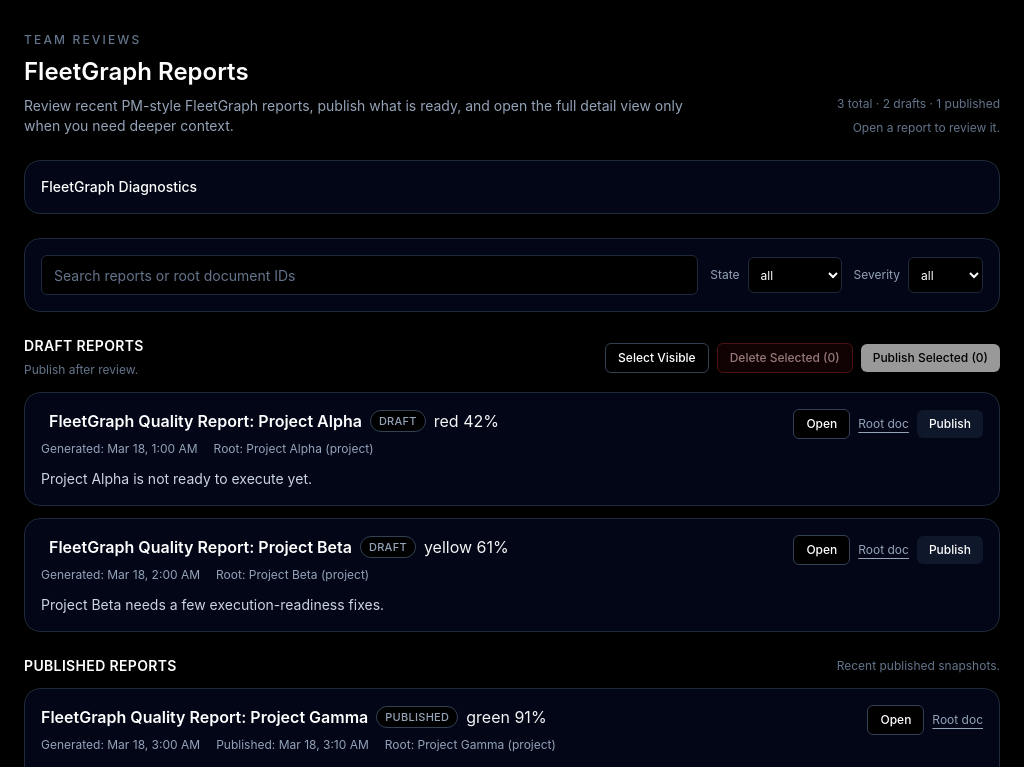
Test: FleetGraphReportsPage › filters the queue by severity and search text
This screenshot has width=1024, height=767.
Select "red" in the dropdown labelled "Severity" at [946, 275], box [908,257,983,293]
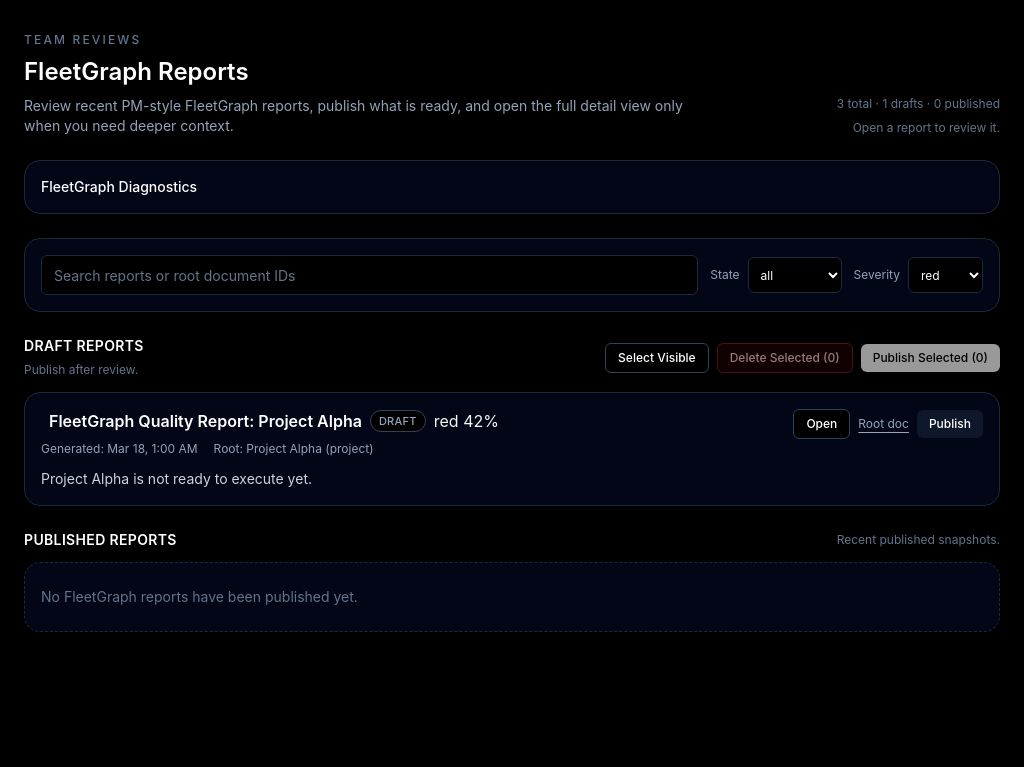
Expected: the heading "FleetGraph Quality Report: Project Alpha" is shown, [49,409,362,433]
Now the heading "FleetGraph Quality Report: Project Beta" is gone
Type "gamma" into the field with placeholder "Search reports or root document IDs".
click(370, 275); type("gamma")  # box [41,255,698,295]
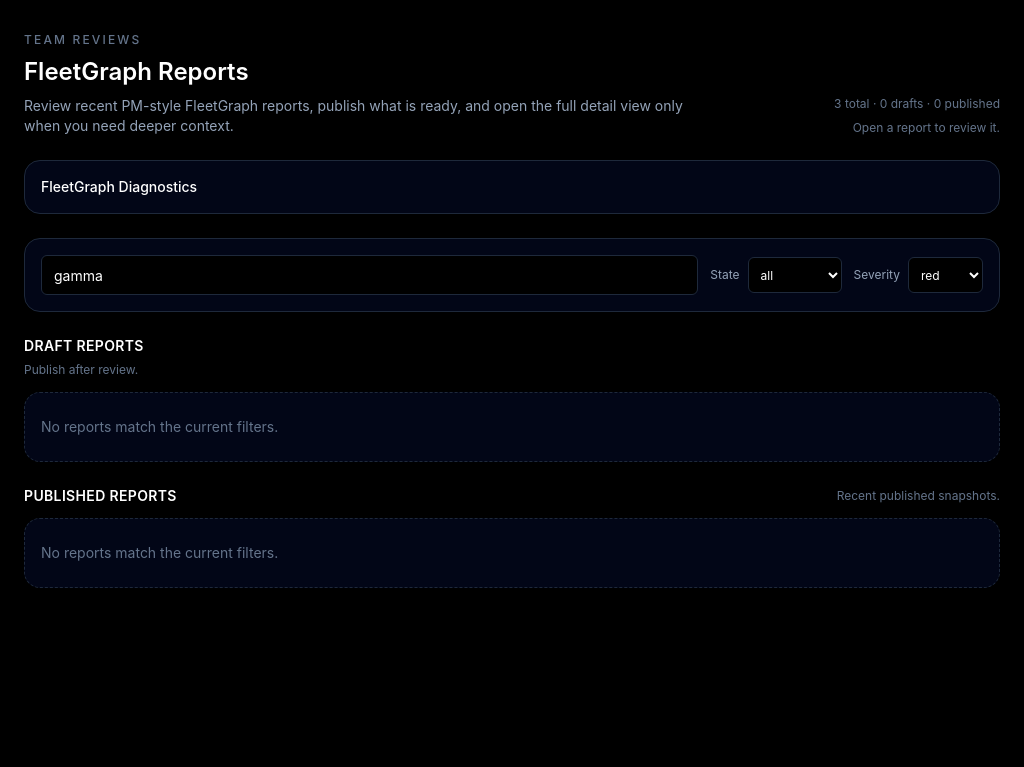
Select "all" in the dropdown labelled "Severity" at [946, 275], box [908,257,983,293]
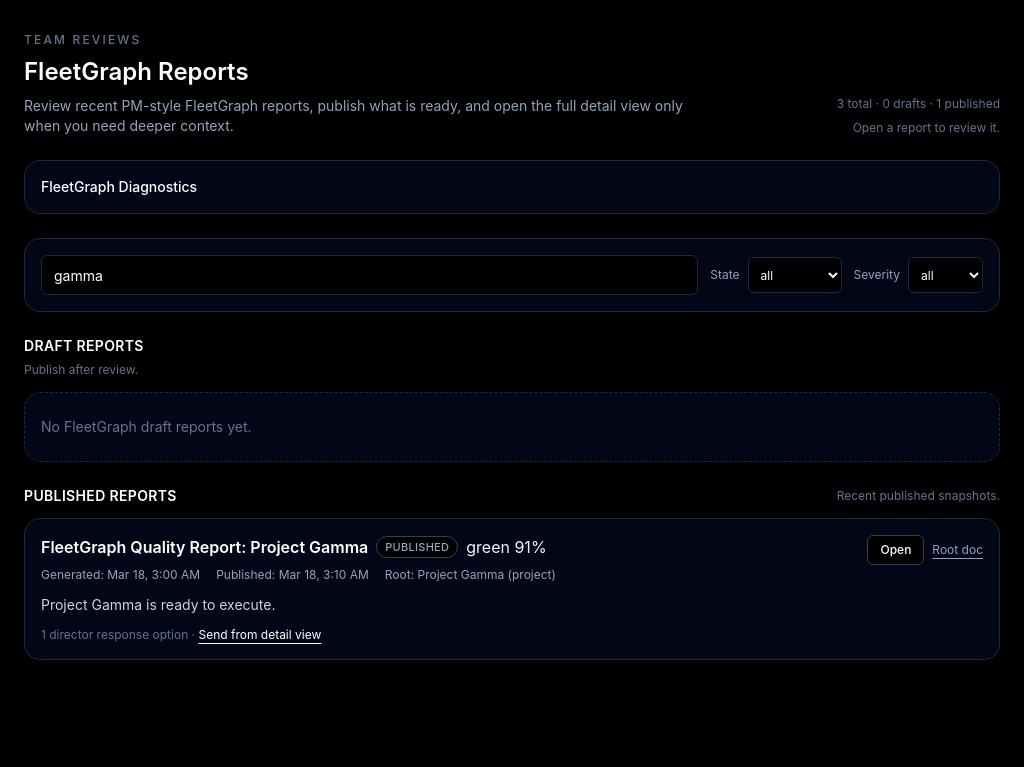
Expected: the heading "FleetGraph Quality Report: Project Alpha" is not shown
Now the heading "FleetGraph Quality Report: Project Gamma" is shown, box [41,535,368,559]
